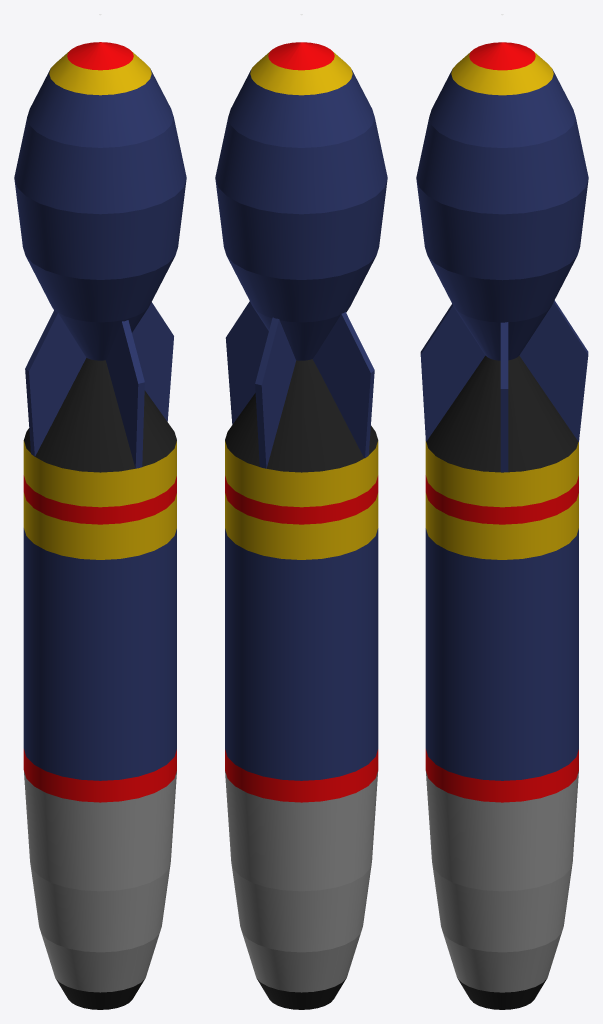
File: rocket.dae
3 renders of one model, left to right at view 1: azimuth 30°, elevation 25°; view 2: azimuth 150°, elevation 25°; view 3: azimuth 270°, elevation 25°, orthographic.
Parts seen in each view (by area): view 1: SketchUp (×13); view 2: SketchUp (×13); view 3: SketchUp (×13).
Boxes of the visible parts, left/top/right/bottom form: SketchUp (×13): left=14, top=42, right=186, bottom=1009; SketchUp (×13): left=215, top=42, right=387, bottom=1009; SketchUp (×13): left=416, top=42, right=588, bottom=1009.
Size of the model in its own units: 177 by 177 by 1112.
